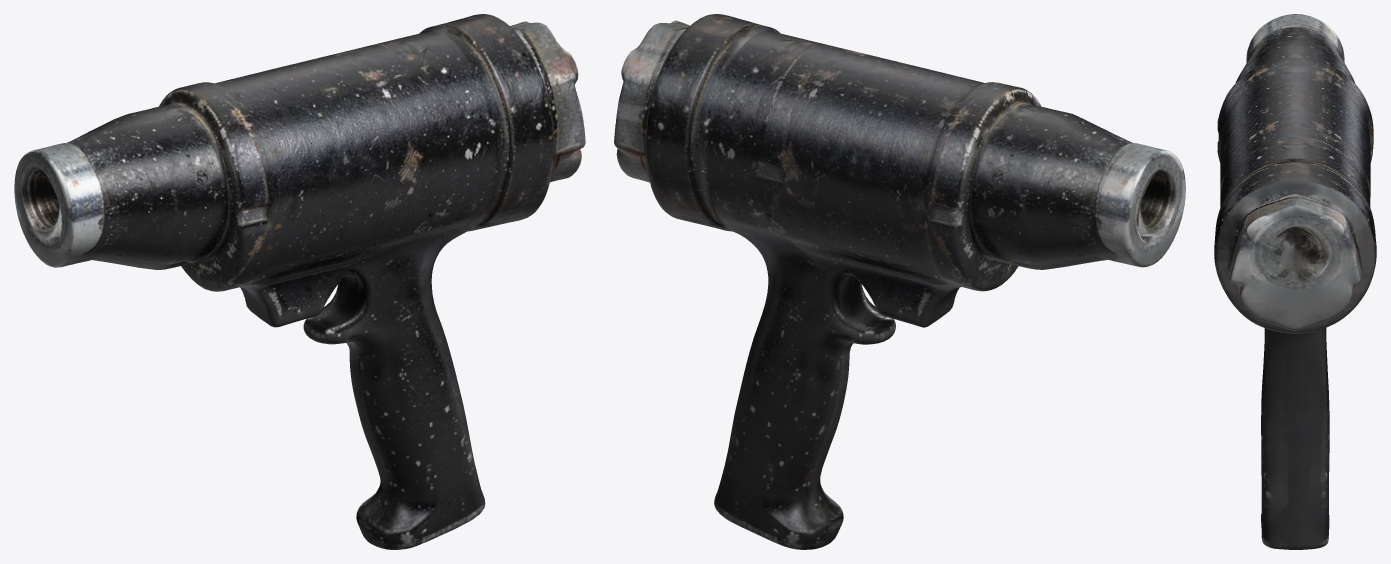
The model's file is captive-bolt-stunner.glb.
The picture shows the model from 3 angles, left to right: view 1: azimuth 30°, elevation 25°; view 2: azimuth 150°, elevation 25°; view 3: azimuth 270°, elevation 25°; orthographic projection. The views are drawn at different scales.
Parts seen in each view (by area): view 1: cowninja-captive-bolt-stunner; view 2: cowninja-captive-bolt-stunner; view 3: cowninja-captive-bolt-stunner.
Part boxes in pixels (x1,y1,x2,y2): cowninja-captive-bolt-stunner: (14,14,585,549); cowninja-captive-bolt-stunner: (614,14,1185,549); cowninja-captive-bolt-stunner: (1214,14,1376,549).
Bounding box in the file's own units: 0.45 × 0.416 × 0.1531.
1 material, 1 textured.
